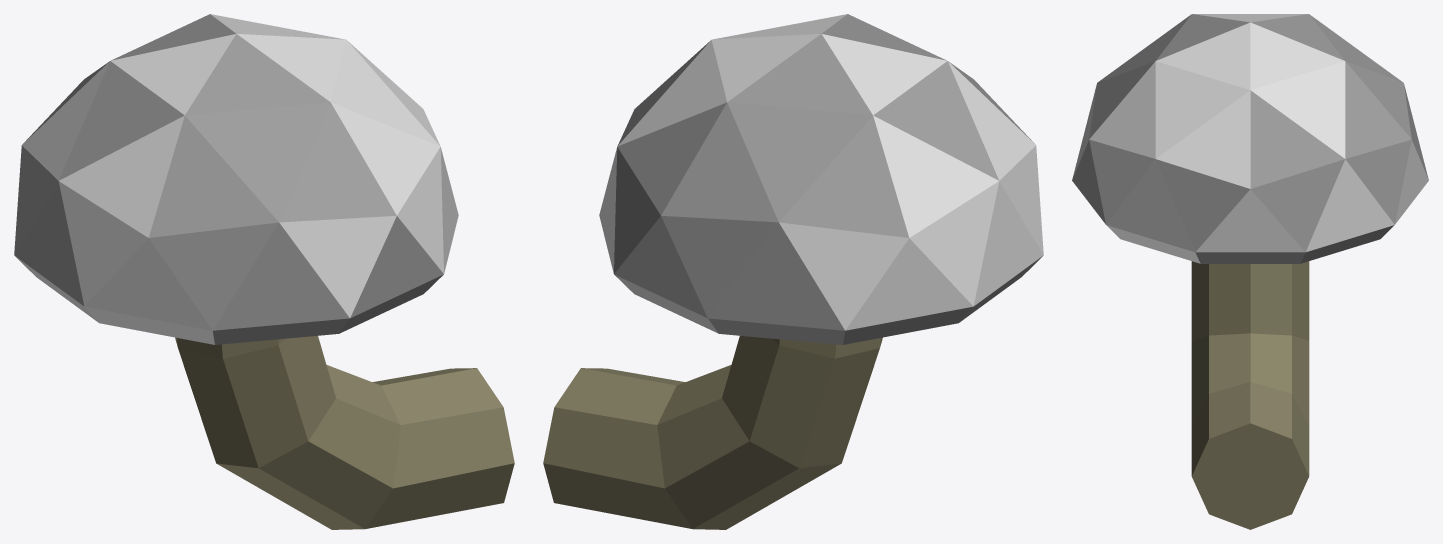
The model's file is Mushroom_5_White.fbx.
3 views of the same model, side by side, from view 1: azimuth 30°, elevation 25°; view 2: azimuth 150°, elevation 25°; view 3: azimuth 270°, elevation 25° (orthographic). The views are drawn at different scales.
Parts seen in each view (by area): view 1: Mushroom_5_White; view 2: Mushroom_5_White; view 3: Mushroom_5_White.
Part boxes in pixels (x1,y1,x2,y2): Mushroom_5_White: (14,14,514,529); Mushroom_5_White: (543,14,1043,529); Mushroom_5_White: (1072,14,1428,529).
Bounding box in the file's own units: 33.07 × 39 × 30.39.
